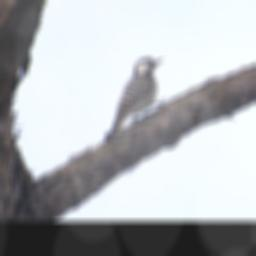Woodpecker: (100, 53, 171, 146)
